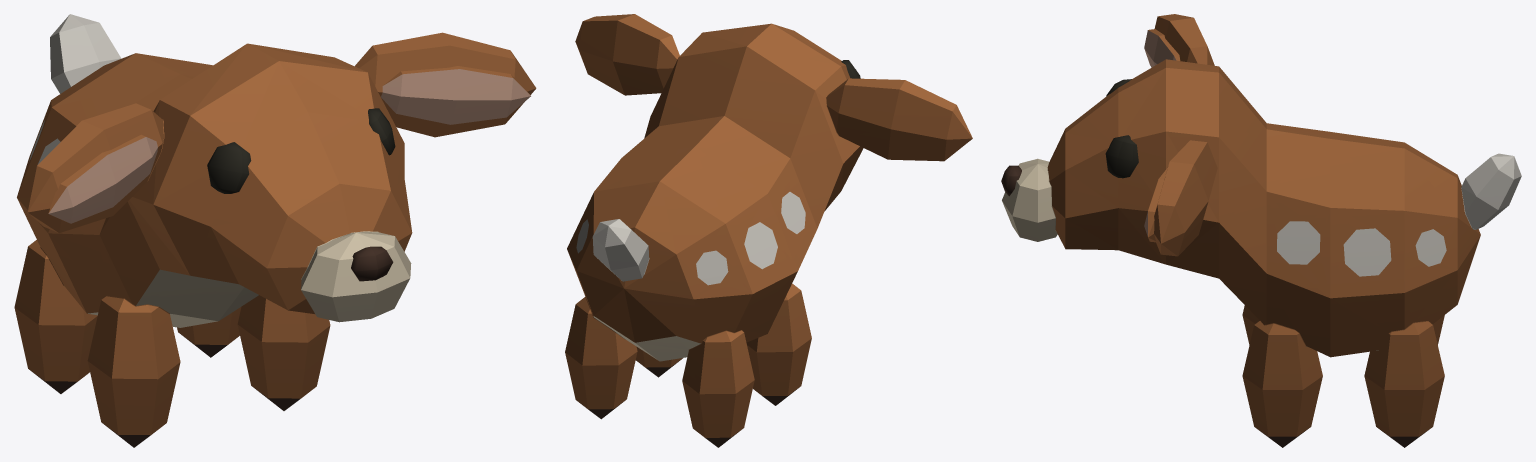
Rendered from Fawn.glb.
3 renders of one model, left to right at view 1: azimuth 30°, elevation 25°; view 2: azimuth 150°, elevation 25°; view 3: azimuth 270°, elevation 25°, orthographic. The views are drawn at different scales.
Parts seen in each view (by area): view 1: Hunt_Fawn; view 2: Hunt_Fawn; view 3: Hunt_Fawn.
Part boxes in pixels (x1,y1,x2,y2): Hunt_Fawn: (14,14,536,447); Hunt_Fawn: (565,14,972,447); Hunt_Fawn: (1001,14,1521,447).
Bounding box in the file's own units: 0.4616 × 0.364 × 0.4911.
